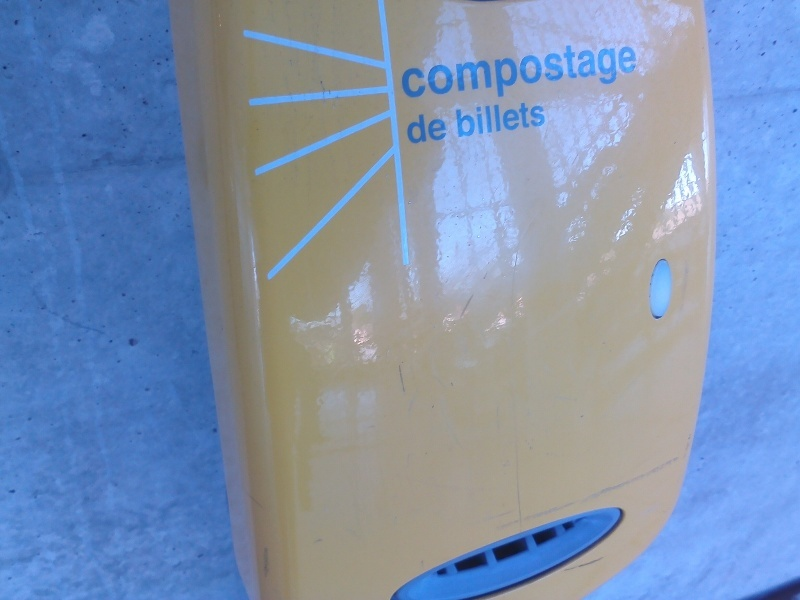text: (401, 37, 416, 111), (417, 37, 432, 111), (433, 37, 448, 111), (449, 37, 464, 111), (465, 37, 480, 111), (481, 37, 496, 111), (497, 37, 512, 111), (513, 37, 528, 111), (529, 37, 544, 111), (545, 37, 560, 111), (561, 37, 576, 111), (577, 37, 592, 111), (593, 37, 608, 111), (609, 37, 624, 111), (625, 37, 640, 111), (465, 98, 480, 138), (481, 98, 496, 138), (497, 98, 512, 138), (513, 98, 528, 138), (529, 98, 544, 138), (433, 109, 449, 146), (417, 109, 432, 146), (405, 109, 416, 146), (456, 98, 464, 138), (545, 98, 547, 138), (641, 37, 642, 111)
